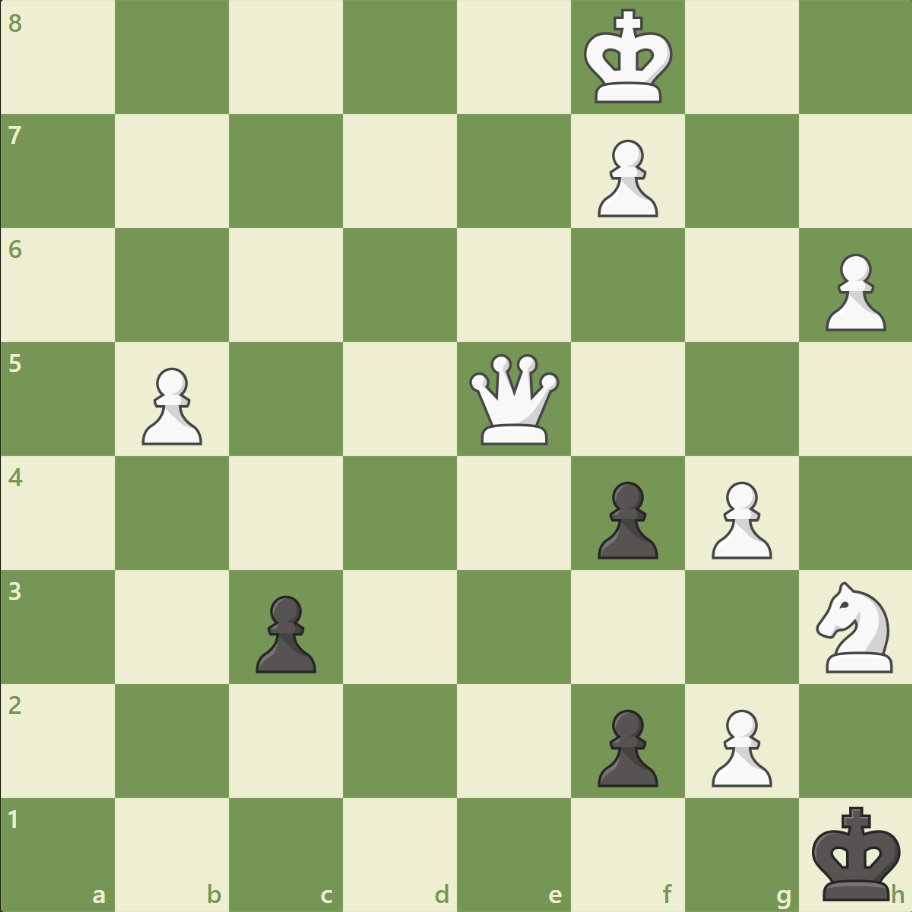K: (579, 4, 679, 112)
N: (806, 575, 903, 677)
P: (133, 359, 208, 450), (701, 473, 776, 564), (701, 700, 776, 791), (588, 132, 662, 223), (815, 246, 889, 337)
Q: (464, 349, 563, 449)
k: (806, 798, 906, 906)
p: (247, 586, 322, 677), (588, 473, 662, 564), (588, 700, 662, 791)
